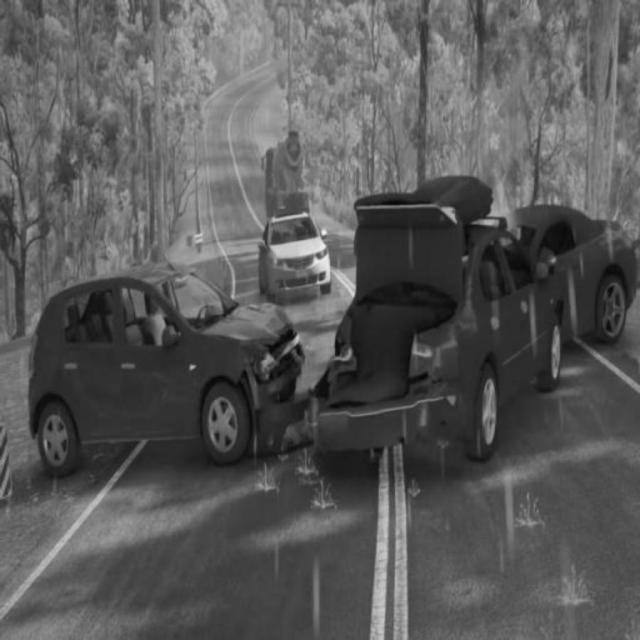accident: (331, 204, 635, 445)
vehicle: (34, 277, 304, 464), (263, 207, 334, 295)
